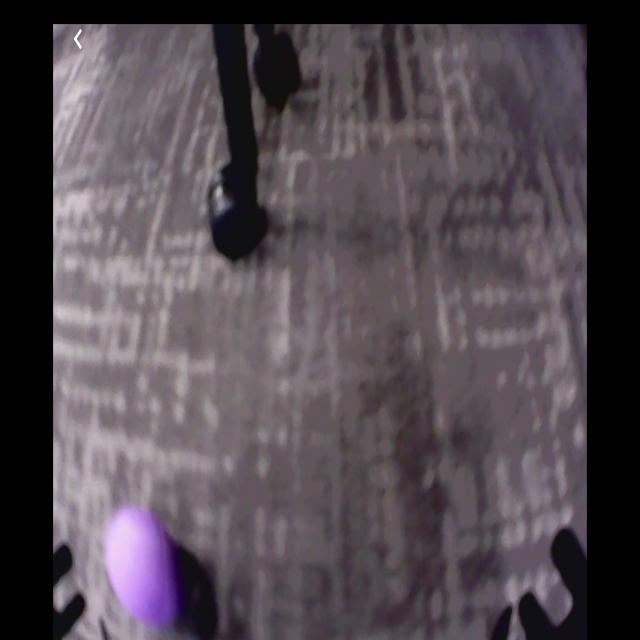ball: (108, 507, 181, 629)
